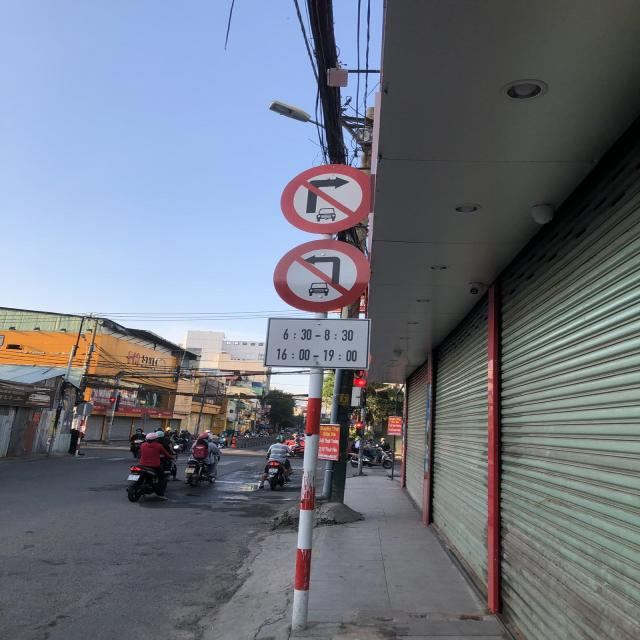Bien bao cam xe o to re phai: (277, 157, 375, 240)
Bien bao cam xe o to re trai: (269, 235, 373, 316)
